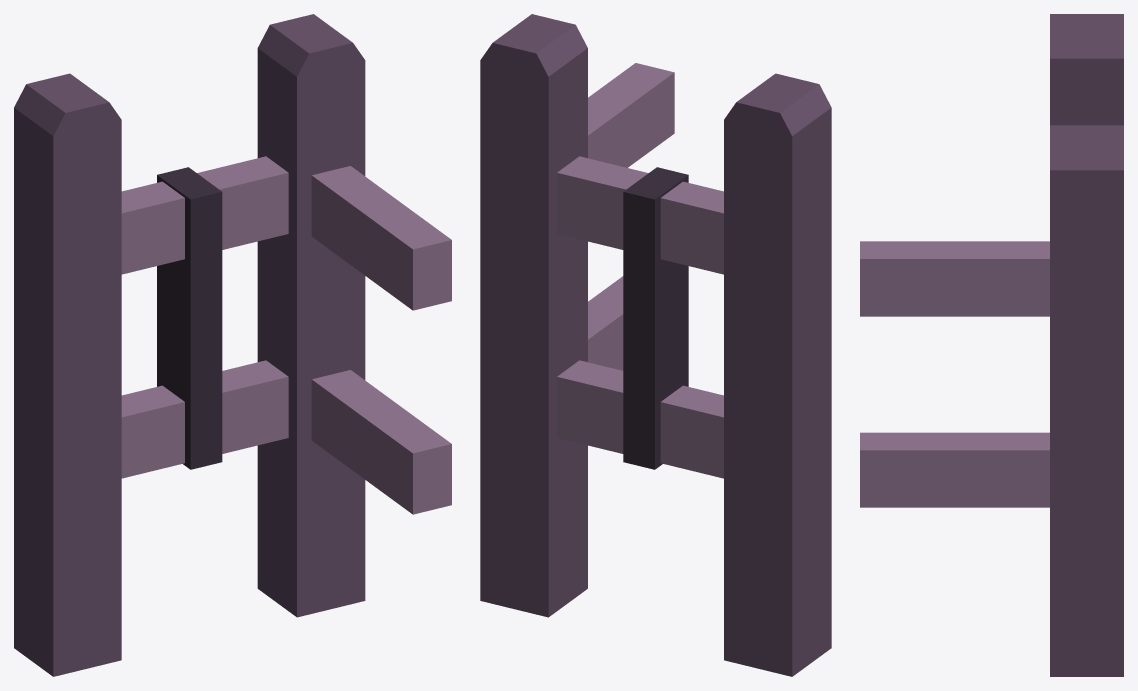
Rendered from TW_WOOD_CORNER_R90_A_LOD0.glb.
The picture shows the model from 3 angles, left to right: view 1: azimuth 30°, elevation 25°; view 2: azimuth 150°, elevation 25°; view 3: azimuth 270°, elevation 25°; orthographic projection. The views are drawn at different scales.
Parts seen in each view (by area): view 1: TW_WOOD_CORNER_R90_A_LOD0; view 2: TW_WOOD_CORNER_R90_A_LOD0; view 3: TW_WOOD_CORNER_R90_A_LOD0.
Part boxes in pixels (<box>): TW_WOOD_CORNER_R90_A_LOD0: <box>14,14,451,676</box>; TW_WOOD_CORNER_R90_A_LOD0: <box>480,14,831,676</box>; TW_WOOD_CORNER_R90_A_LOD0: <box>860,14,1123,676</box>.
Size of the model in its own units: 0.64 by 1.1 by 0.5.
1 material, 1 textured.
